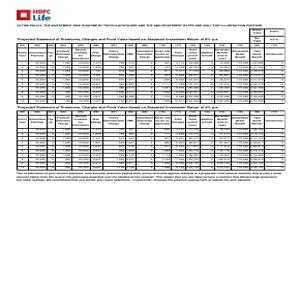image: (14, 6, 53, 22)
table: (16, 29, 285, 171)
text: (16, 172, 282, 182), (17, 23, 263, 27)
